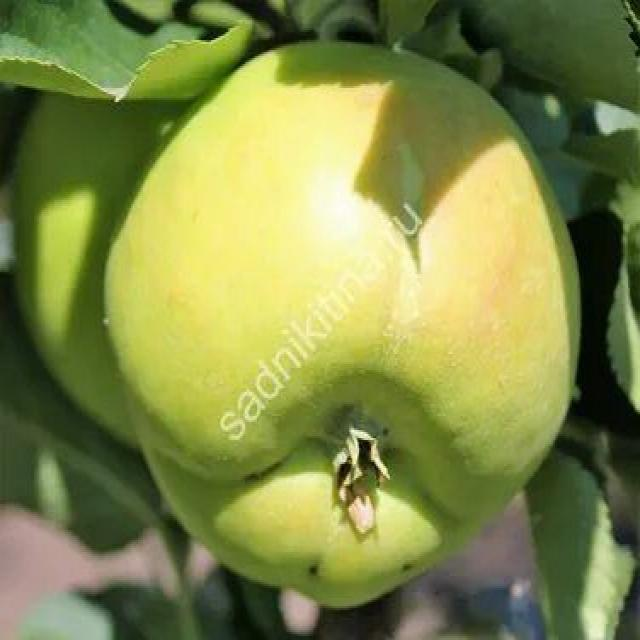Fresh Apple: (104, 38, 578, 610)
